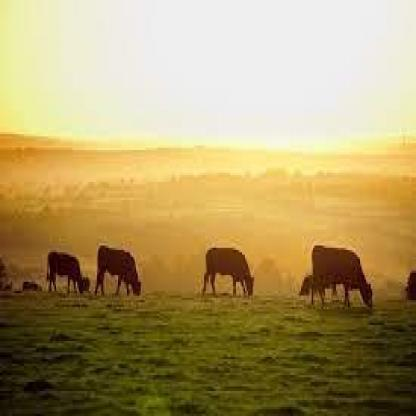cow: (312, 248, 373, 309), (202, 248, 255, 298), (97, 244, 142, 299), (48, 252, 90, 300)
